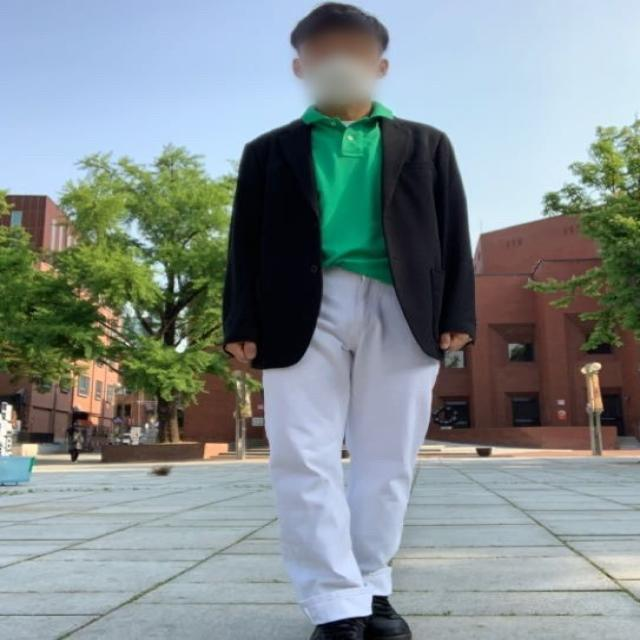blazer: (224, 115, 478, 369)
cottonpants: (262, 263, 445, 622)
